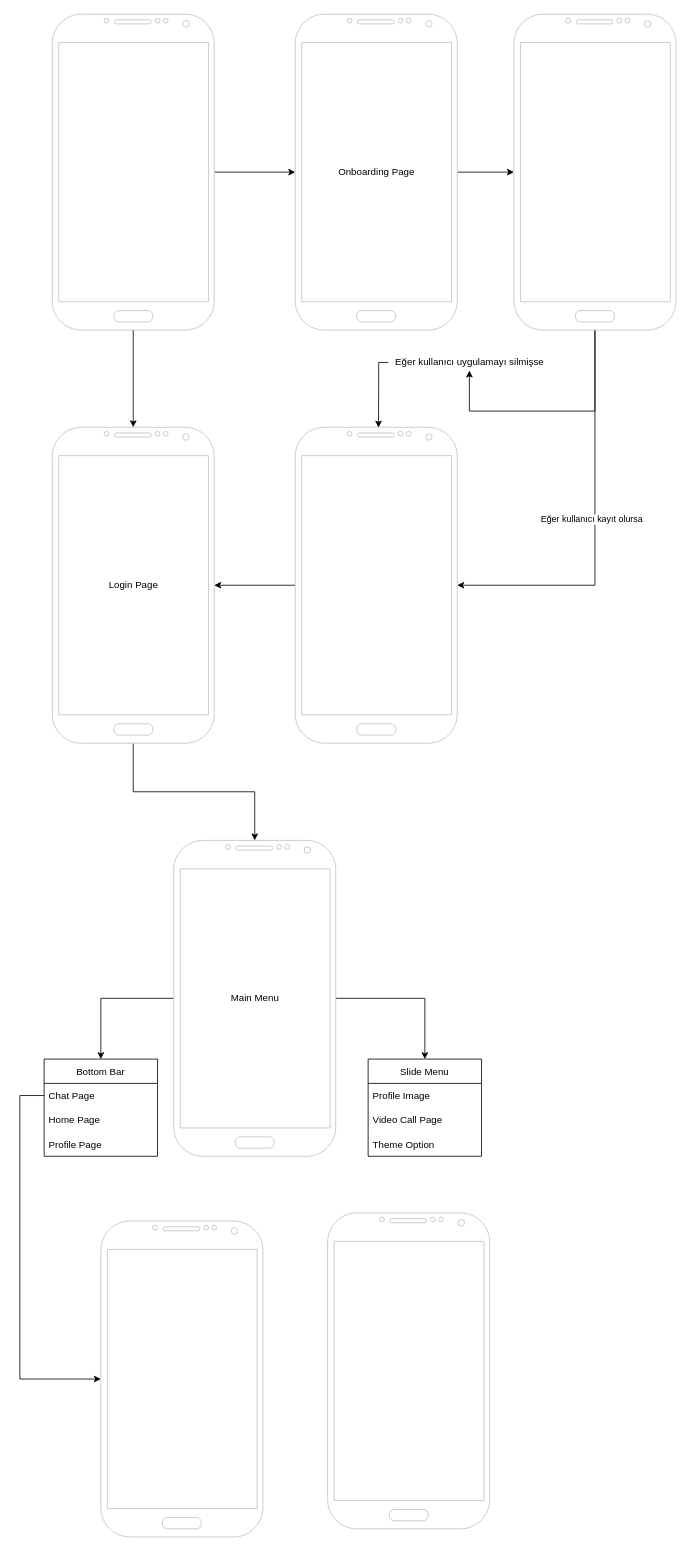
Image size: 690x1551. Some labels were removed from this diagram. Here are the shapes that lost their labels. From the top down, the centre of each, then its label:
At point 132,171: "Welcome Page".
At point 594,171: "Registiration Page".
At point 375,584: "Verification Page".
